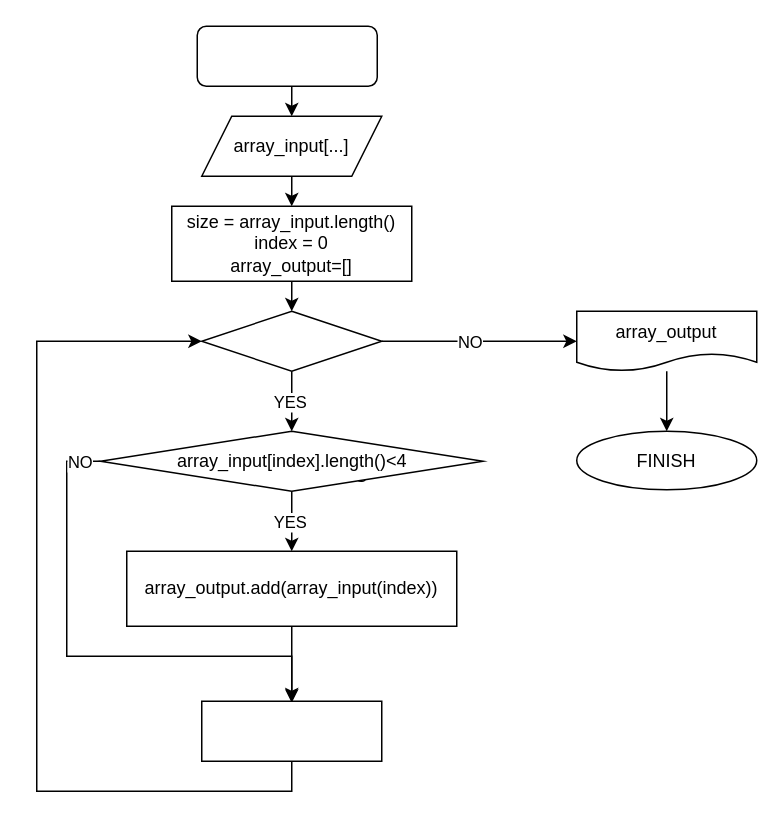
The diagram is 783 pixels wide and 830 high, and some of its shapes have lost their labels. Here are the shapes that lost their labels. From the top down, the box of each, then its label:
(196, 25, 377, 86): START
(200, 310, 382, 371): index < size
(200, 700, 382, 761): index = index + 1
